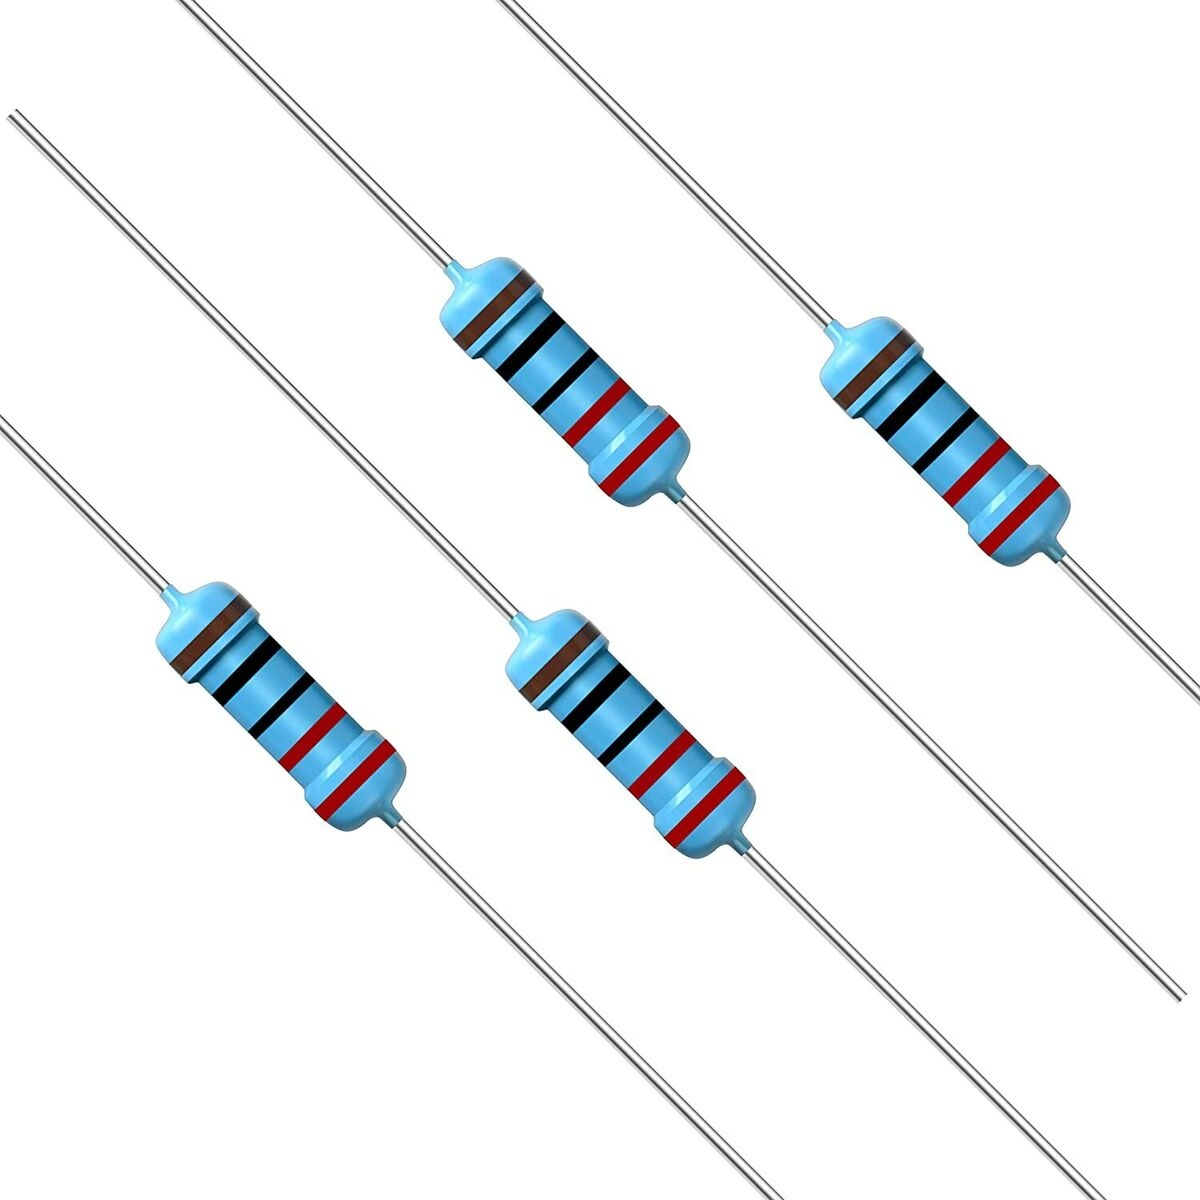resistor: (102, 531, 459, 885), (452, 557, 809, 911), (385, 204, 742, 558), (757, 265, 1114, 619)
